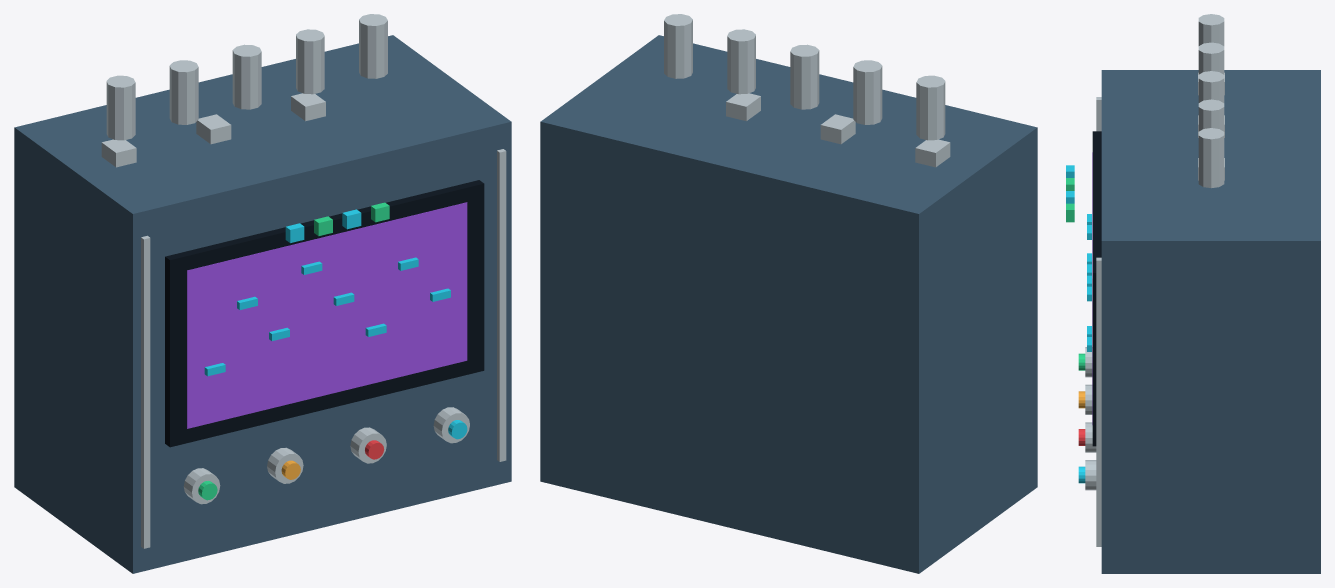
The model's file is 47_L79_BondInterfaceStressMonitor.fbx.
3 views of the same model, side by side, from view 1: azimuth 30°, elevation 25°; view 2: azimuth 150°, elevation 25°; view 3: azimuth 270°, elevation 25° (orthographic). The views are drawn at different scales.
Visible parts, largest first — view 1: BondInterfaceStressMonitor; view 2: BondInterfaceStressMonitor; view 3: BondInterfaceStressMonitor.
Boxes of the visible parts, box(x1,y1,x2,y2) form: BondInterfaceStressMonitor: box(14, 14, 511, 573); BondInterfaceStressMonitor: box(540, 14, 1037, 573); BondInterfaceStressMonitor: box(1066, 14, 1320, 573).
Size of the model in its own units: 120 by 132 by 75.6.
